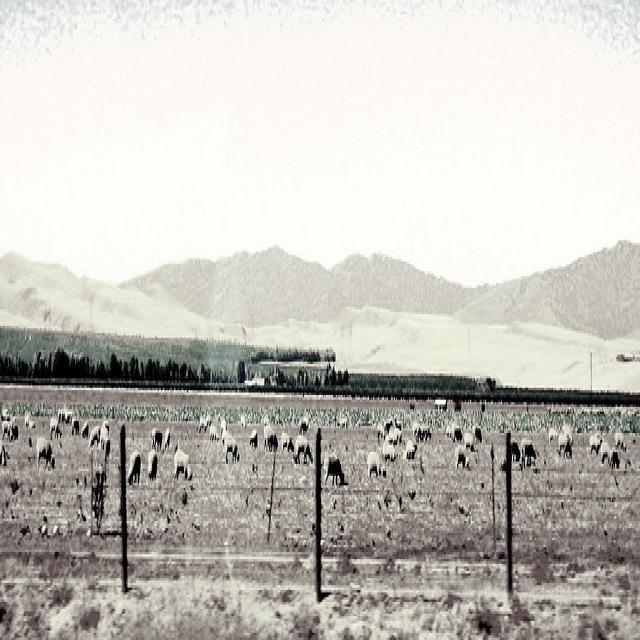cow: (0, 390, 630, 474), (171, 440, 190, 481), (322, 452, 343, 485), (35, 433, 54, 466), (292, 431, 312, 462), (454, 443, 470, 469), (146, 448, 157, 479), (462, 429, 474, 448), (599, 438, 608, 462), (9, 421, 17, 438), (452, 423, 461, 438)
